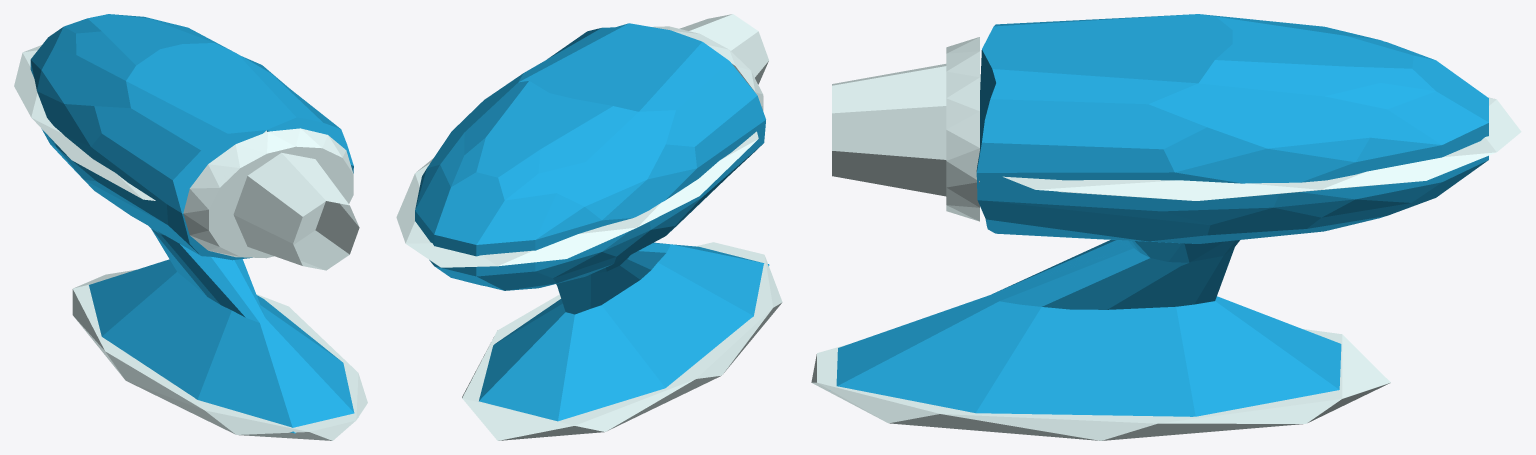
The model's file is LaserKanoneLowPoly.fbx.
3 renders of one model, left to right at view 1: azimuth 30°, elevation 25°; view 2: azimuth 150°, elevation 25°; view 3: azimuth 270°, elevation 25°, orthographic. The views are drawn at different scales.
Parts seen in each view (by area): view 1: BodyBlau, LaufVorne, KanoneVorneSilber, SockelUntenSilber, RingObenSilber; view 2: BodyBlau, SockelUntenSilber, RingObenSilber, LaufVorne, KanoneVorneSilber; view 3: BodyBlau, SockelUntenSilber, LaufVorne, RingObenSilber, KanoneVorneSilber.
Part boxes in pixels (x1=…): BodyBlau: x1=30, y1=14, x2=354, y2=433; LaufVorne: x1=233, y1=152, x2=359, y2=270; KanoneVorneSilber: x1=183, y1=128, x2=353, y2=258; SockelUntenSilber: x1=72, y1=270, x2=367, y2=440; RingObenSilber: x1=14, y1=45, x2=266, y2=200; BodyBlau: x1=415, y1=23, x2=769, y2=421; SockelUntenSilber: x1=462, y1=242, x2=782, y2=440; RingObenSilber: x1=396, y1=131, x2=758, y2=267; LaufVorne: x1=679, y1=14, x2=768, y2=84; KanoneVorneSilber: x1=652, y1=26, x2=763, y2=110; BodyBlau: x1=836, y1=14, x2=1488, y2=416; SockelUntenSilber: x1=811, y1=329, x2=1390, y2=440; LaufVorne: x1=832, y1=64, x2=946, y2=196; RingObenSilber: x1=980, y1=75, x2=1521, y2=200; KanoneVorneSilber: x1=946, y1=37, x2=979, y2=221.
Bounding box in the file's own units: 238 × 278 × 515.
